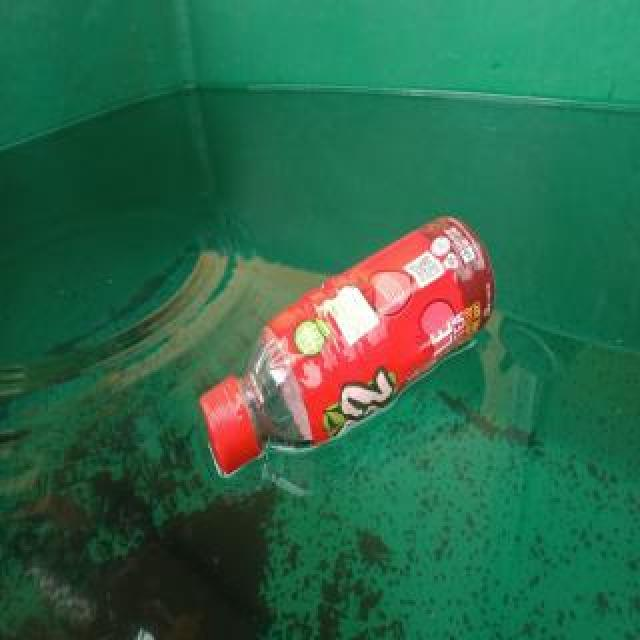bottle: (196, 205, 498, 477)
